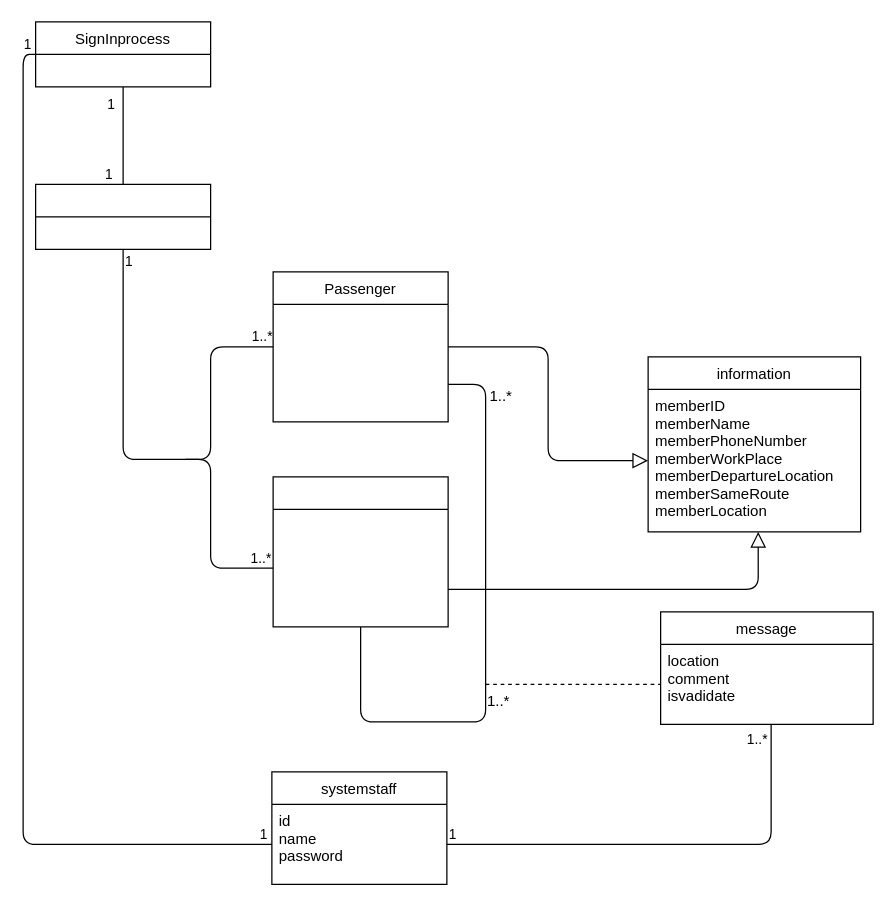
The diagram is 895 pixels wide and 910 high, and some of its shapes have lost their labels. The centre of each missing label's shape, as x and y in pixels:
"Driver" belongs at point 360,551.
"SignUpprocess" belongs at point 122,216.
